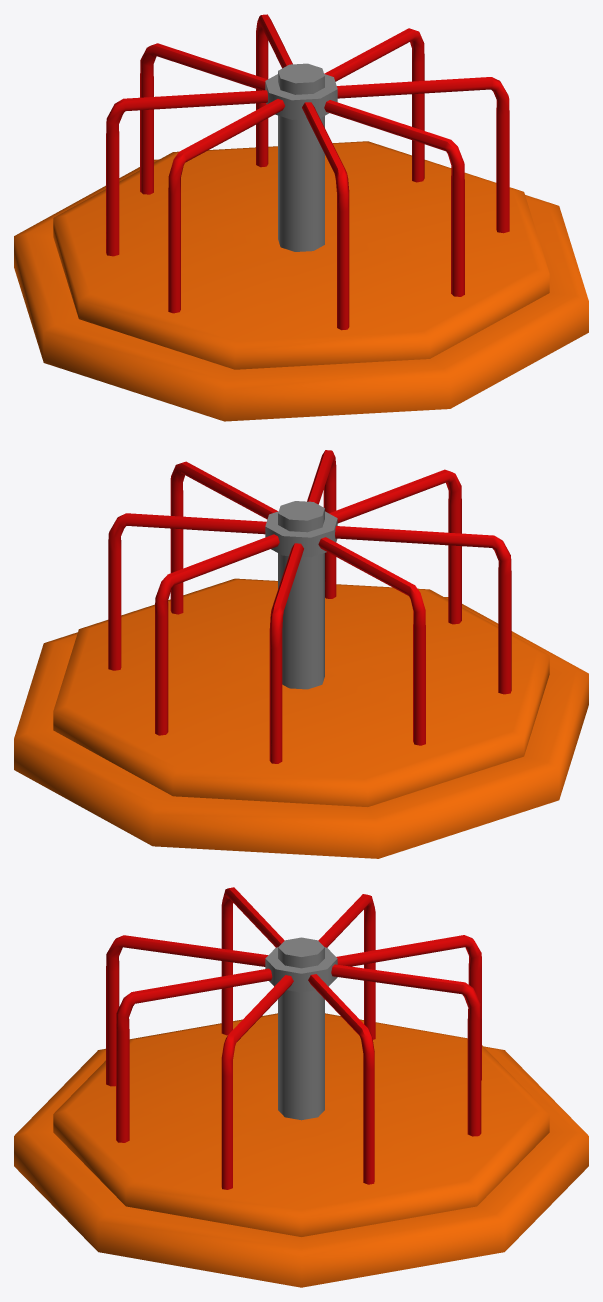
Rendered from Turn.fbx.
The picture shows the model from 3 angles, top to bottom: view 1: azimuth 30°, elevation 25°; view 2: azimuth 150°, elevation 25°; view 3: azimuth 270°, elevation 25°; orthographic projection. The views are drawn at different scales.
Parts seen in each view (by area): view 1: Turn; view 2: Turn; view 3: Turn.
Part boxes in pixels (x1,y1,x2,y2): Turn: [14, 14, 588, 421]; Turn: [14, 450, 588, 858]; Turn: [14, 887, 588, 1287].
Bounding box in the file's own units: 10.73 × 4.51 × 10.73.
